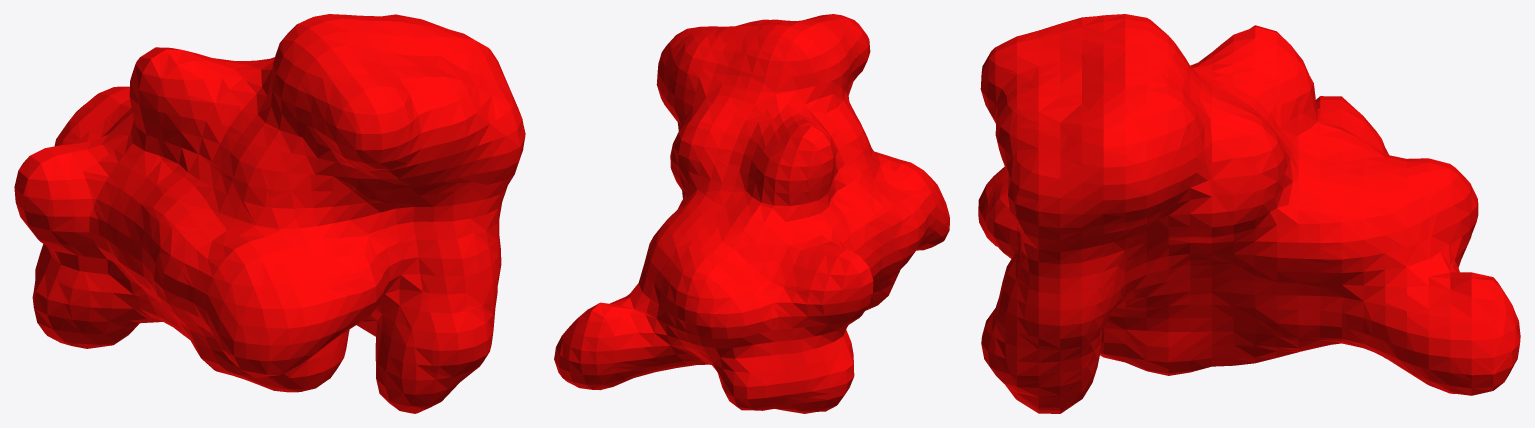
Rendered from dapD_coarse.dae.
3 views of the same model, side by side, from view 1: azimuth 30°, elevation 25°; view 2: azimuth 150°, elevation 25°; view 3: azimuth 270°, elevation 25° (orthographic). The views are drawn at different scales.
Visible parts, largest first — view 1: dapD; view 2: dapD; view 3: dapD.
Part boxes in pixels (box(x1,y1,x2,y2)): dapD: box(14, 14, 525, 413); dapD: box(554, 14, 949, 413); dapD: box(978, 14, 1520, 413).
Bounding box in the file's own units: 51.69 × 49.75 × 66.49.
